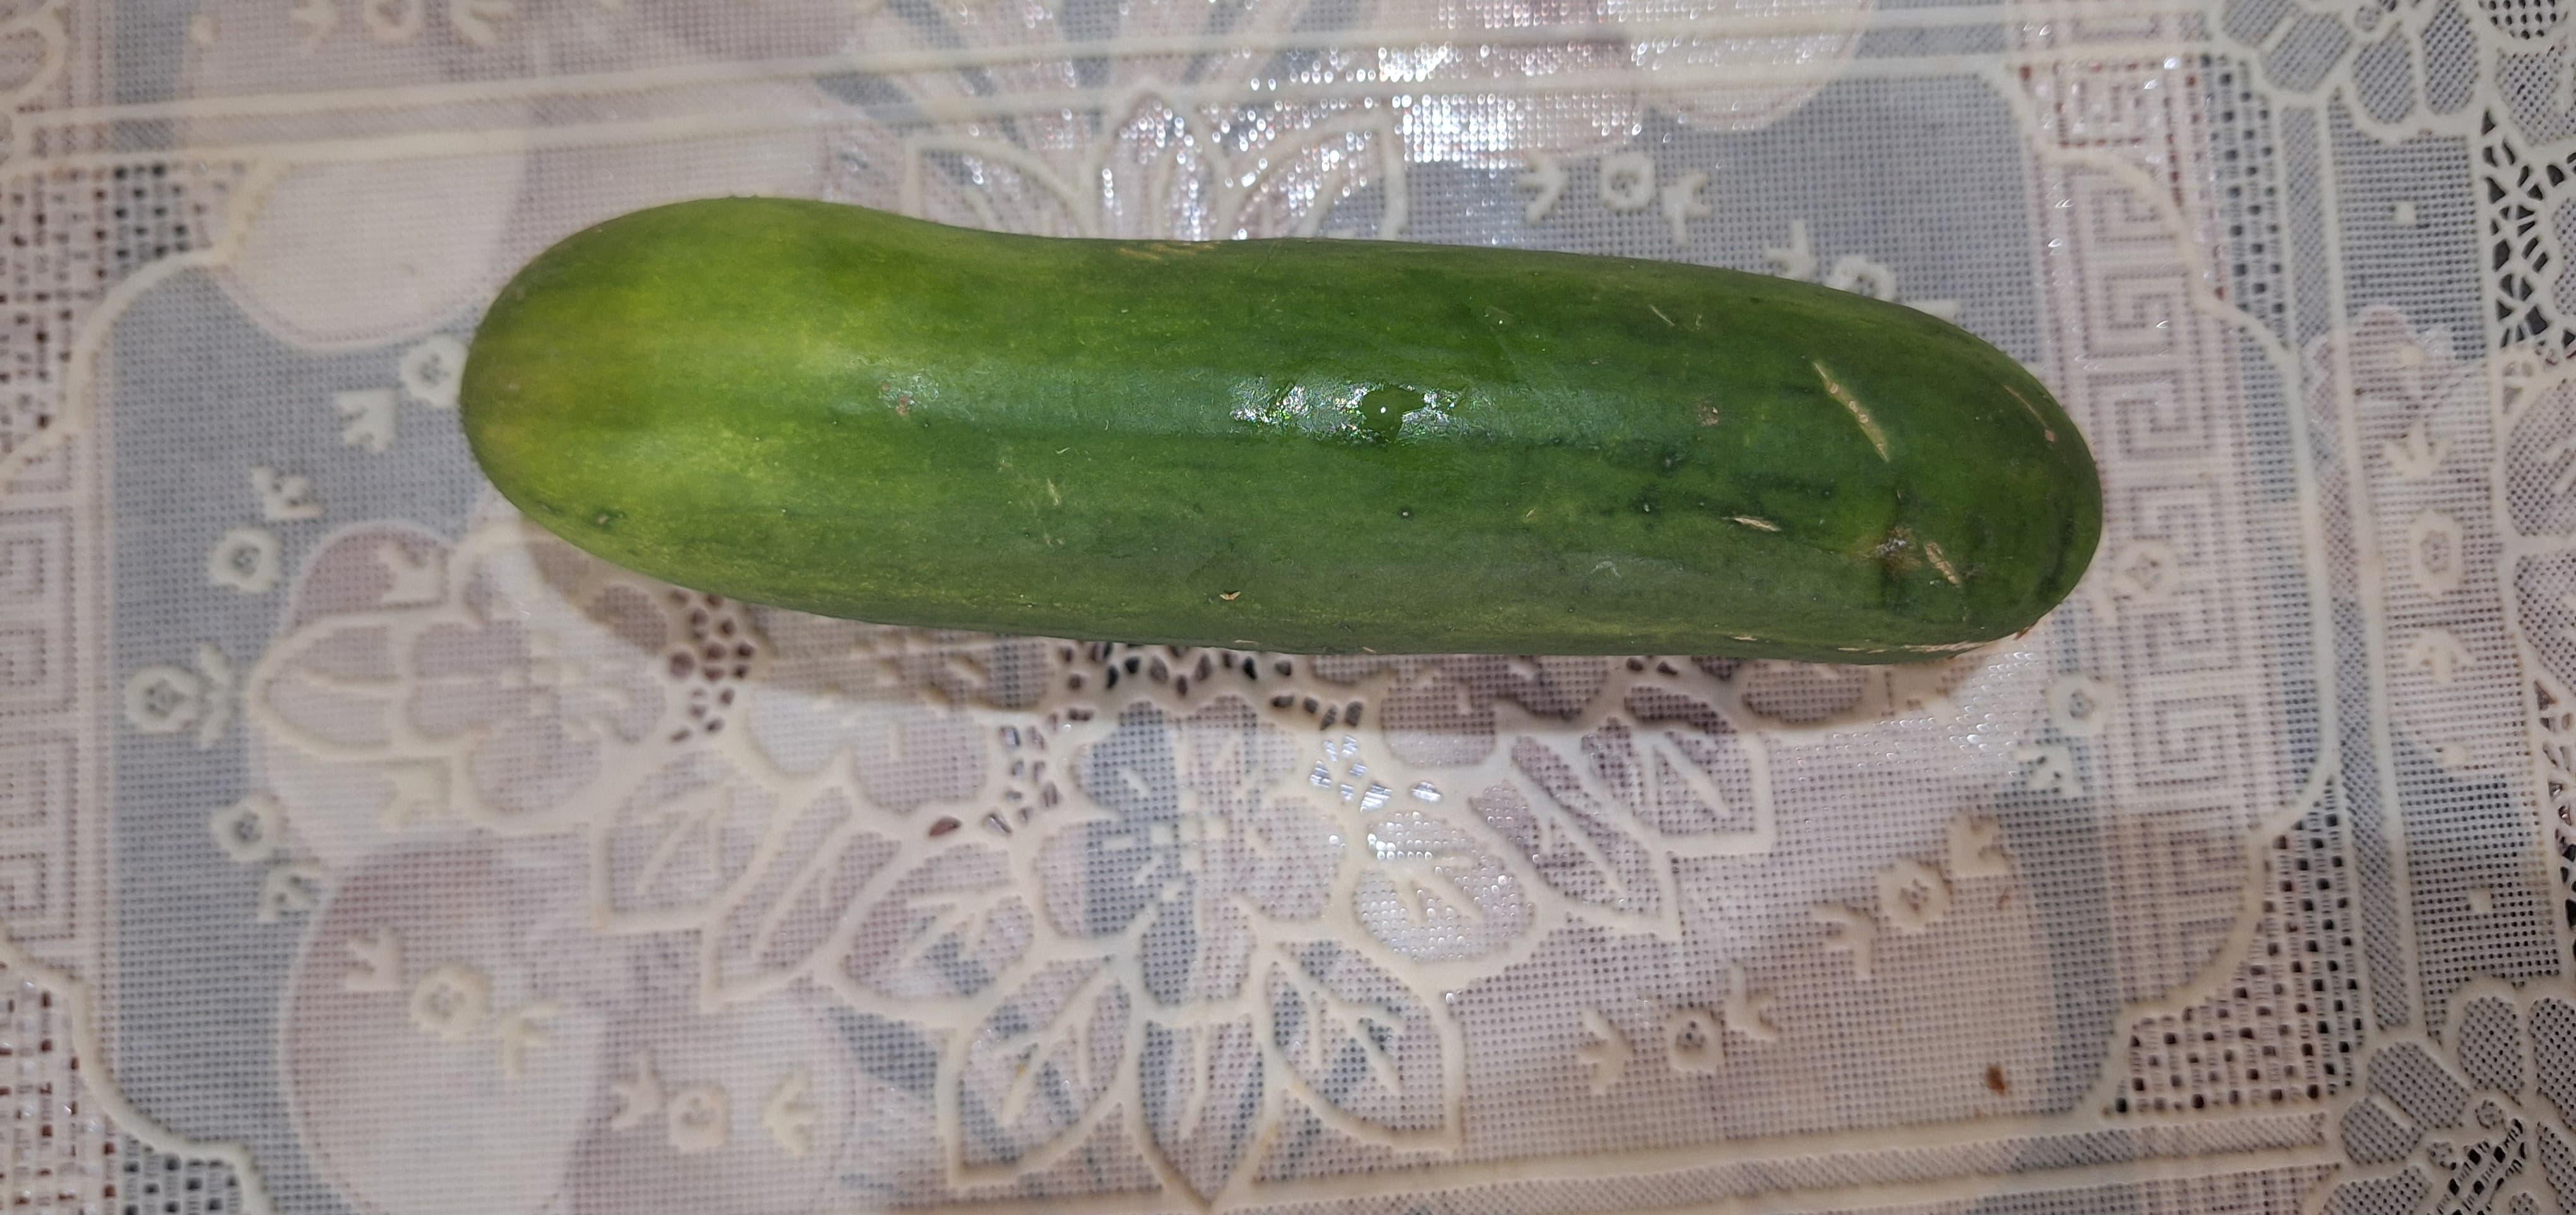non-mango: (457, 191, 2106, 666)
